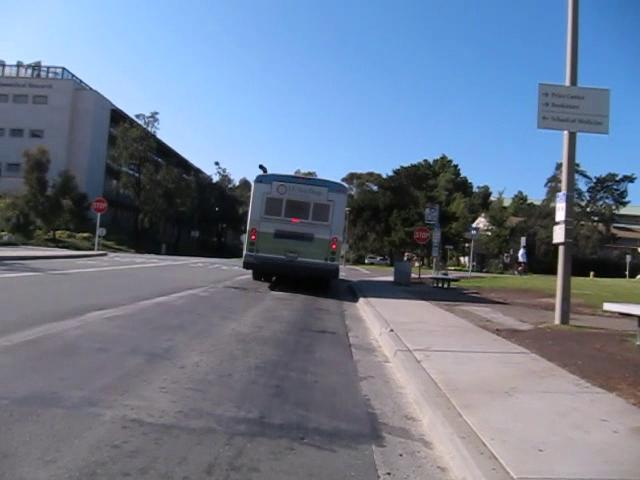stop: (91, 196, 108, 213)
